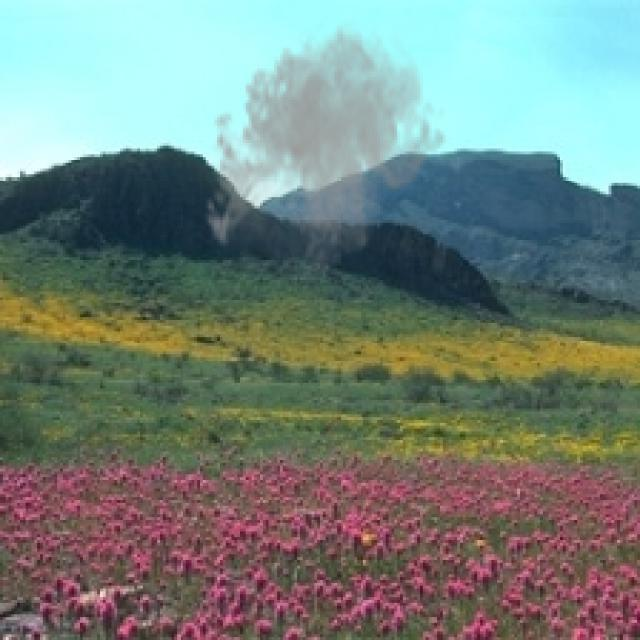Smoke: (201, 17, 448, 283)
